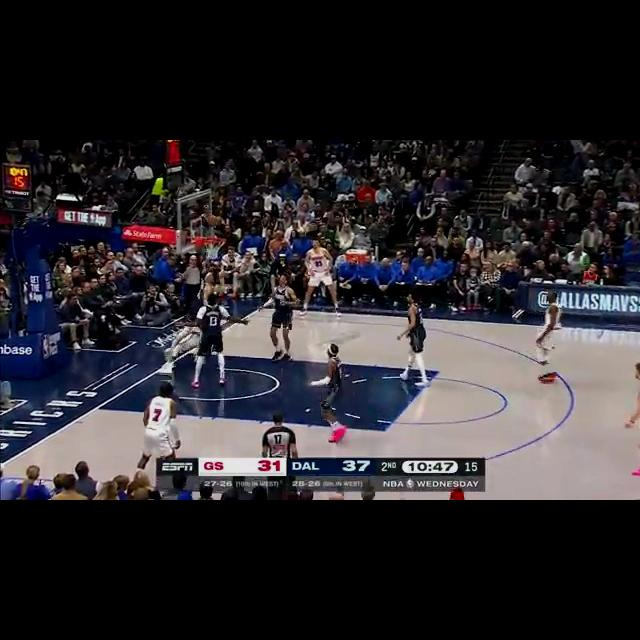Team-1-Player: (188, 292, 254, 386), (306, 340, 352, 448), (256, 273, 306, 359), (392, 288, 432, 389)
Team-2-Player: (137, 380, 187, 458), (301, 236, 345, 322), (528, 287, 564, 388)
